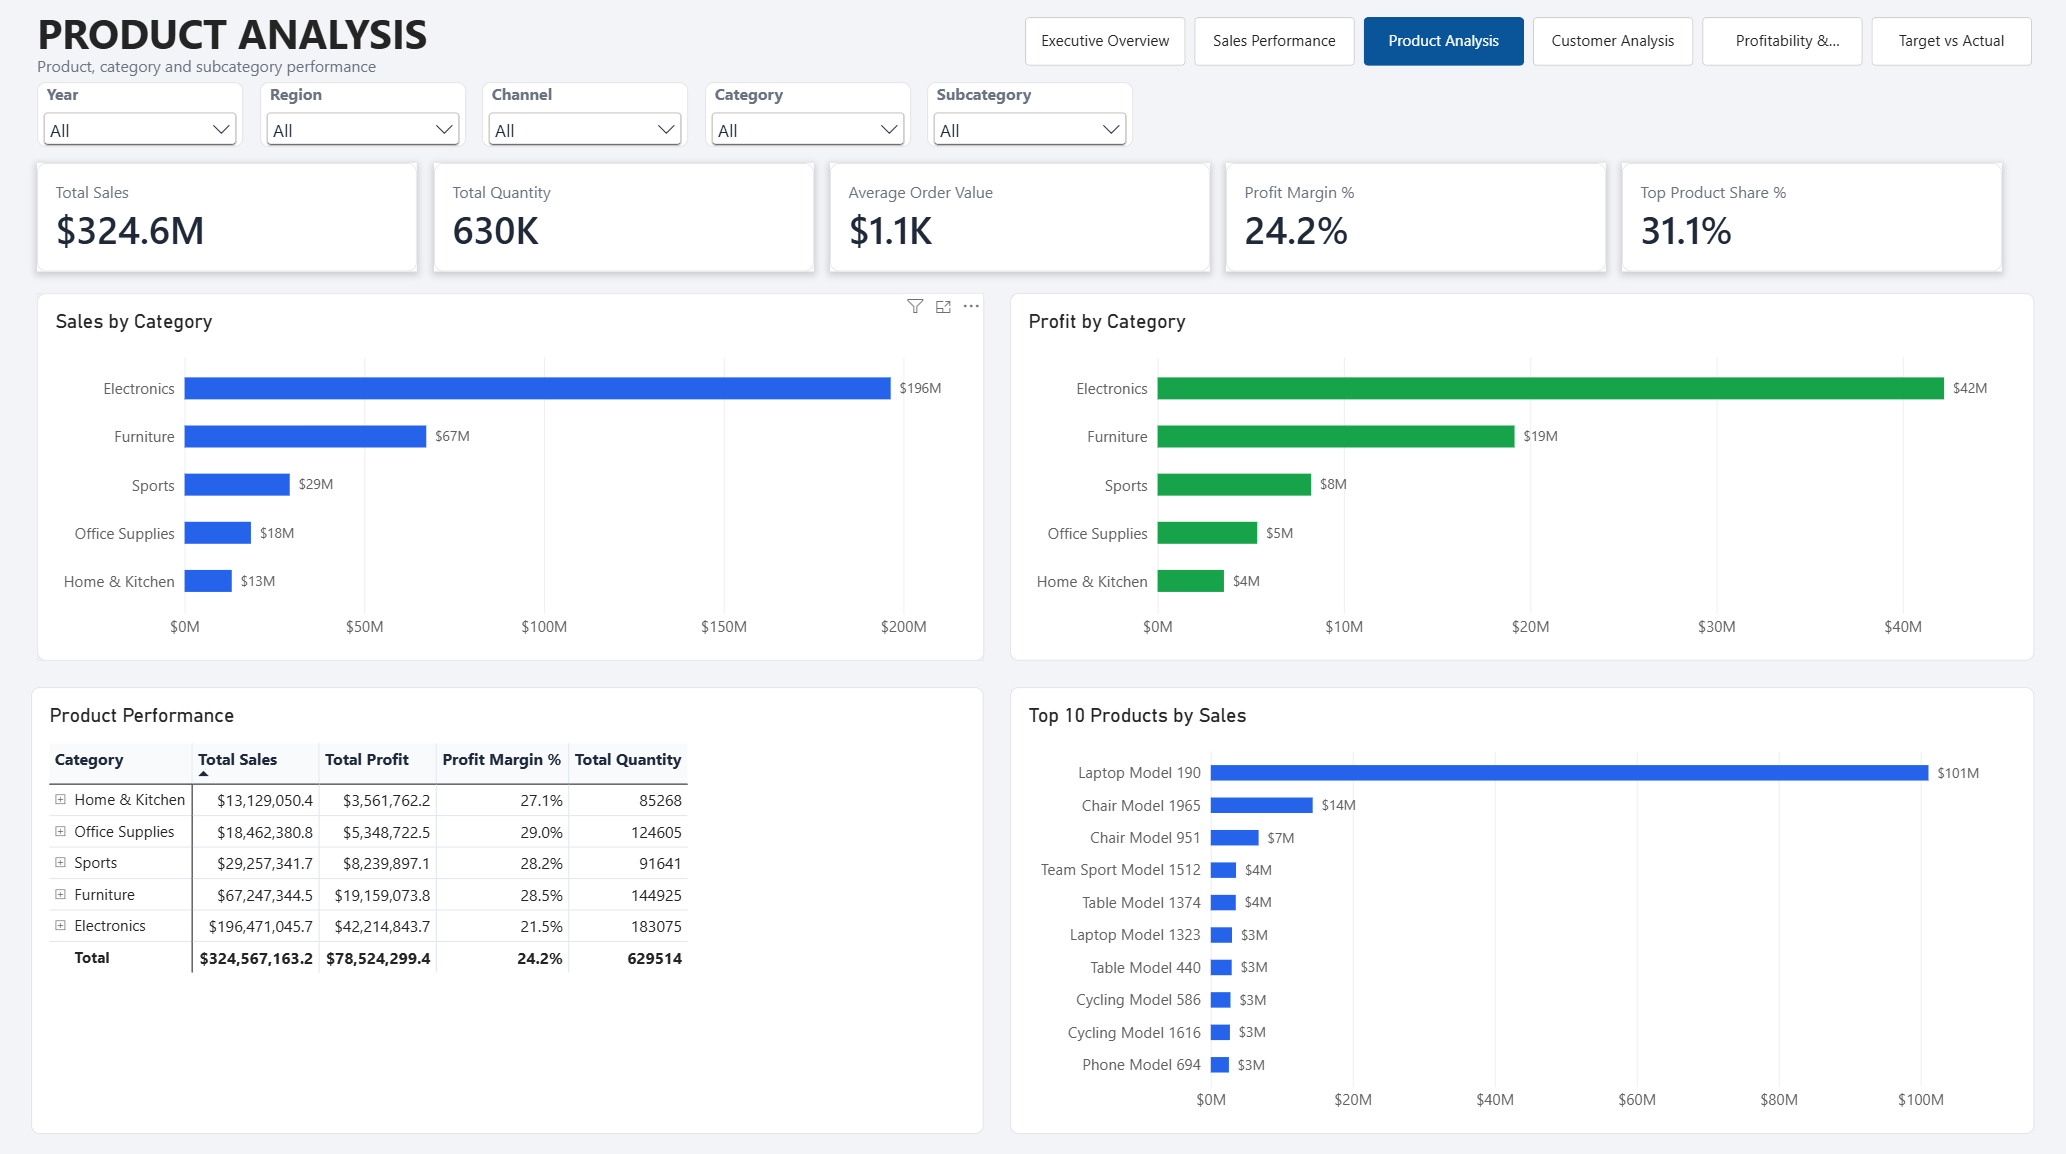

Layout of this report page (visuals, bound fields, positions):
{"tool":"powerbi","page":{"name":"Product Analysis","canvas":[1920,1080],"ordinal":2},"visuals":[{"type":"barChart","title":"Sales by Category","fields":{"Category":["DimProducts.Category"],"Y":["_Measures.Total Sales"]},"box":[39.6,274.6,872.7,339.1],"z":0},{"type":"barChart","title":"Profit by Category","fields":{"Category":["DimProducts.Category"],"Y":["_Measures.Total Profit"]},"box":[936.2,274.6,943.6,339.1],"z":1000},{"type":"barChart","title":"Top 10 Products by Sales","fields":{"Category":["DimProducts.ProductName"],"Y":["_Measures.Total Sales"]},"box":[936.2,637.7,943.6,411.9],"z":2000},{"type":"pivotTable","title":"Product Performance","fields":{"Rows":["DimProducts.Category","DimProducts.ProductName","DimProducts.Subcategory"],"Values":["_Measures.Total Sales","_Measures.Total Profit","_Measures.Profit Margin %","_Measures.Total Quantity"]},"box":[34.1,637.7,878.2,411.9],"z":3000},{"type":"slicer","fields":{"Values":["DimDate.Year"]},"box":[40,80,190,60],"z":4000},{"type":"slicer","fields":{"Values":["DimRegion.Region"]},"box":[245,80,190,60],"z":5000},{"type":"slicer","fields":{"Values":["FactSales.Channel"]},"box":[450,80,190,60],"z":6000},{"type":"slicer","fields":{"Values":["DimProducts.Category"]},"box":[655,80,190,60],"z":7000},{"type":"pageNavigator","box":[950,20,930,45.2],"z":8000},{"type":"textbox","box":[40,10,700,50],"z":9000},{"type":"cardVisual","fields":{"Data":["_Measures.Total Sales"]},"box":[40,155,350,100],"z":10000},{"type":"cardVisual","fields":{"Data":["_Measures.Total Quantity"]},"box":[405,155,350,100],"z":11000},{"type":"cardVisual","fields":{"Data":["_Measures.Average Order Value"]},"box":[770,155,350,100],"z":12000},{"type":"cardVisual","fields":{"Data":["_Measures.Profit Margin %"]},"box":[1135,155.1,350,100],"z":13000},{"type":"slicer","fields":{"Values":["DimProducts.Subcategory"]},"box":[860,80.5,190,60],"z":14000},{"type":"textbox","box":[40,55,800,20],"z":15000},{"type":"cardVisual","fields":{"Data":["_Measures.Top Product Share %"]},"box":[1500,155,350,100],"z":16000}]}

Visuals, with their boxes in screenshot pixels (x1, y1, x2, y2), scaled from the page's 1920x1080 canvas onto the 2066x1154 screenshot:
"Sales by Category" barChart: BBox(43, 293, 982, 656)
"Profit by Category" barChart: BBox(1007, 293, 2023, 656)
"Top 10 Products by Sales" barChart: BBox(1007, 681, 2023, 1122)
"Product Performance" pivotTable: BBox(37, 681, 982, 1122)
slicer - DimDate.Year: BBox(43, 85, 247, 150)
slicer - DimRegion.Region: BBox(264, 85, 468, 150)
slicer - FactSales.Channel: BBox(484, 85, 689, 150)
slicer - DimProducts.Category: BBox(705, 85, 909, 150)
pageNavigator: BBox(1022, 21, 2023, 70)
textbox: BBox(43, 11, 796, 64)
cardVisual - _Measures.Total Sales: BBox(43, 166, 420, 272)
cardVisual - _Measures.Total Quantity: BBox(436, 166, 812, 272)
cardVisual - _Measures.Average Order Value: BBox(829, 166, 1205, 272)
cardVisual - _Measures.Profit Margin %: BBox(1221, 166, 1598, 273)
slicer - DimProducts.Subcategory: BBox(925, 86, 1130, 150)
textbox: BBox(43, 59, 904, 80)
cardVisual - _Measures.Top Product Share %: BBox(1614, 166, 1991, 272)
